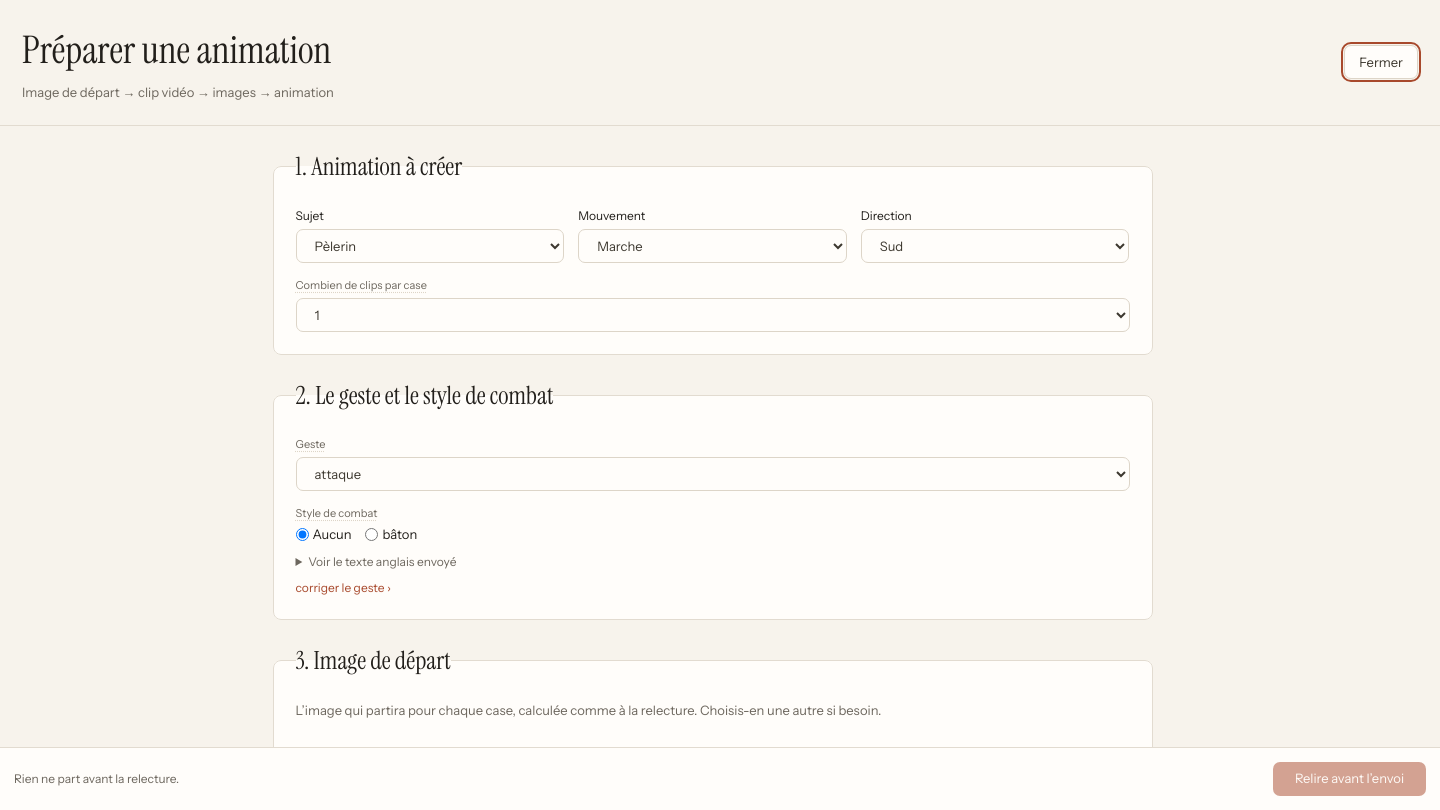
Test: aucun style n’est coché d’office ; en cocher un recompose le texte au serveur, avec lui
The width and height of the screenshot is (1440, 810).
Expected: the dropdown labelled "Geste" shows "attaque", [296,456,1130,490]
Expected: the radio button labelled "Aucun" is checked, [296,528,308,541]
Click the heading "Voir le texte anglais envoyé".
click(382, 561)  # box [308,554,456,568]
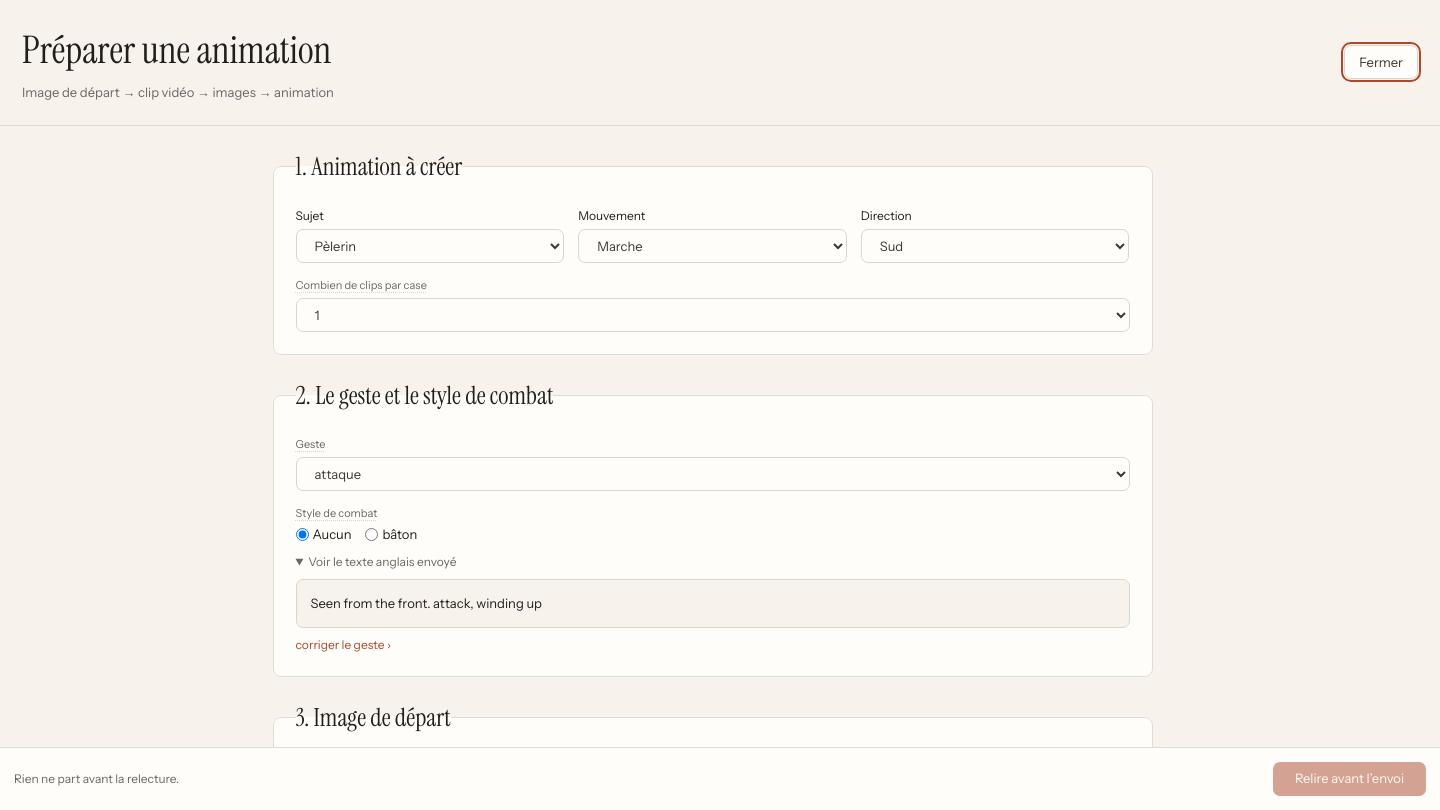
Expected: the text "Seen from the front. attack, winding up" is shown, [296,578,1130,628]
Click the radio button labelled "bâton".
click(372, 535)  # box [366,528,378,541]
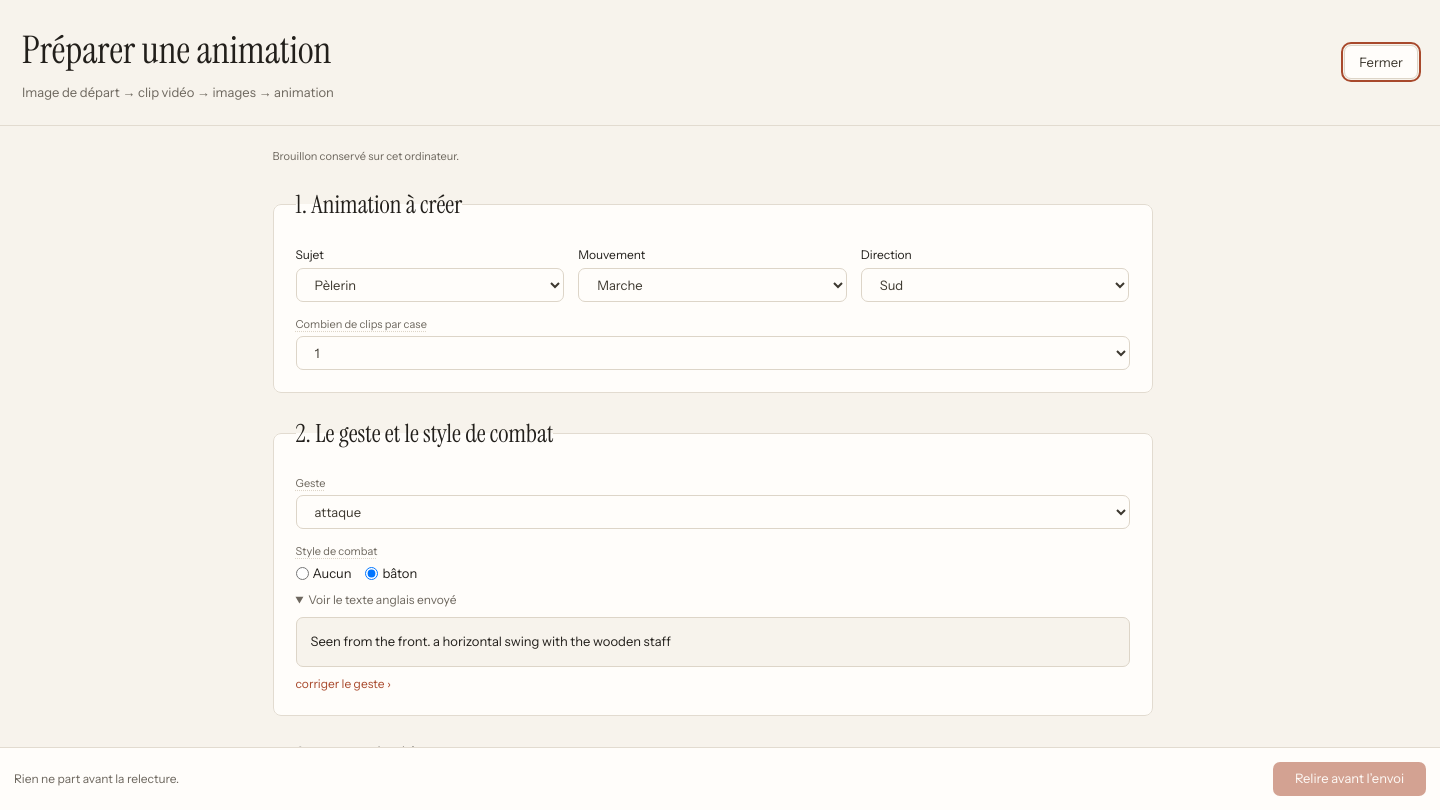
Expected: the text "Seen from the front. a horizontal swing with the wooden staff" is shown, [296,617,1130,666]
